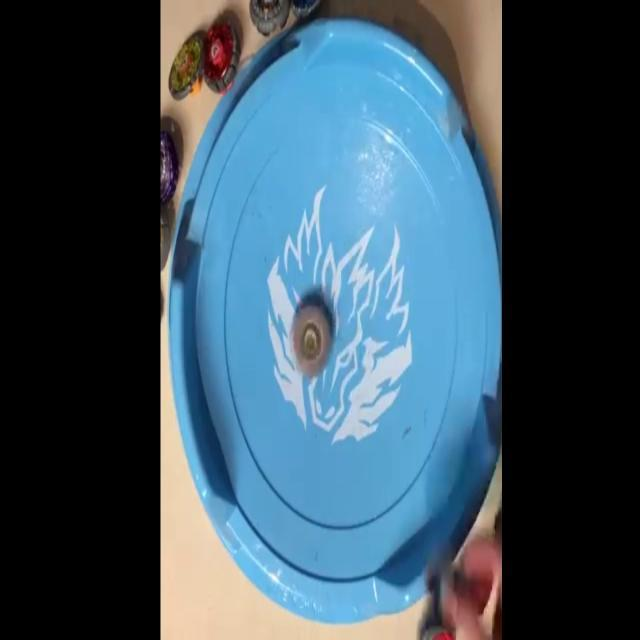Beyblade: (202, 16, 240, 92), (291, 304, 331, 376), (169, 34, 203, 100)
